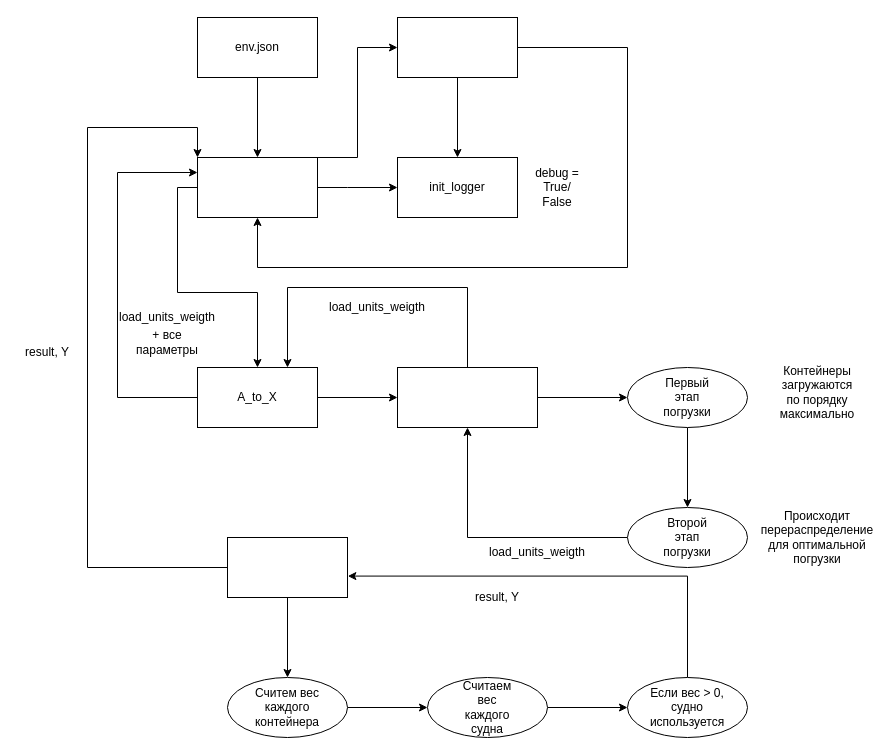
Some shapes in this 890 by 755 pixel diagram are drawn without their labels. Here are the shapes that lost their labels. From the top down, the centre of each, then its label:
(x=457, y=47): validate_data
(x=257, y=187): main
(x=467, y=397): calculate_loads_weigth
(x=287, y=567): calculate
